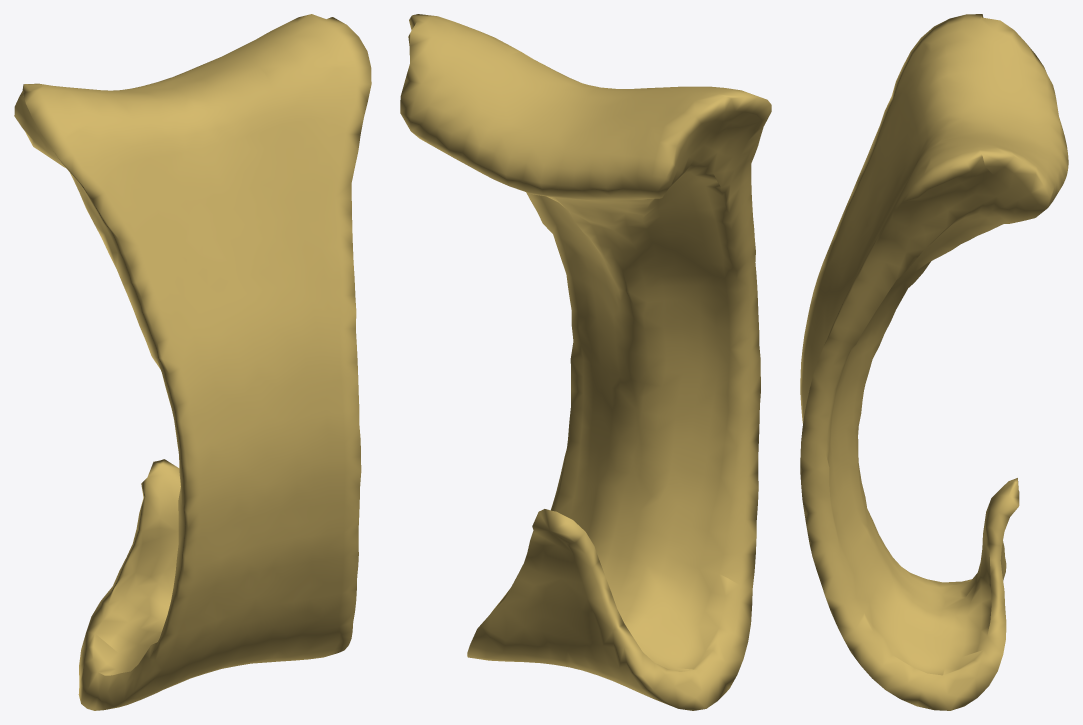
The picture shows the model from 3 angles, left to right: view 1: azimuth 30°, elevation 25°; view 2: azimuth 150°, elevation 25°; view 3: azimuth 270°, elevation 25°; orthographic projection. The views are drawn at different scales.
Visible parts, largest first — view 1: 胼胝体; view 2: 胼胝体; view 3: 胼胝体.
Boxes of the visible parts, x1=… form: 胼胝体: x1=14, y1=14, x2=371, y2=710; 胼胝体: x1=400, y1=14, x2=771, y2=710; 胼胝体: x1=800, y1=14, x2=1068, y2=710.
Bounding box in the file's own units: 0.0736 × 0.1308 × 0.0555.
